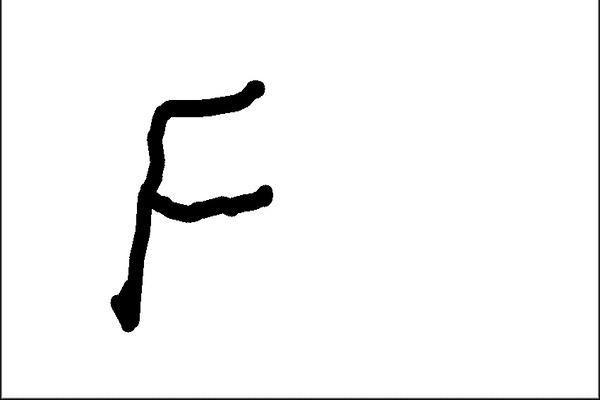F: (104, 75, 277, 334)
